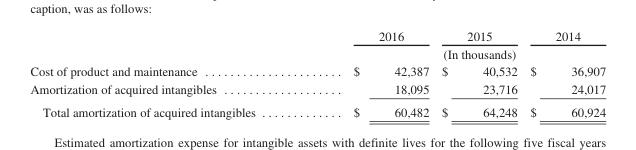table: (29, 28, 605, 118)
table column: (29, 28, 303, 118), (303, 28, 434, 118), (434, 28, 523, 118), (523, 28, 605, 118)
table column header: (29, 28, 605, 62)
table row: (29, 79, 605, 100), (29, 44, 605, 62), (29, 100, 605, 118), (29, 62, 605, 79), (29, 28, 605, 44)
table spanning cell: (303, 44, 605, 62)
